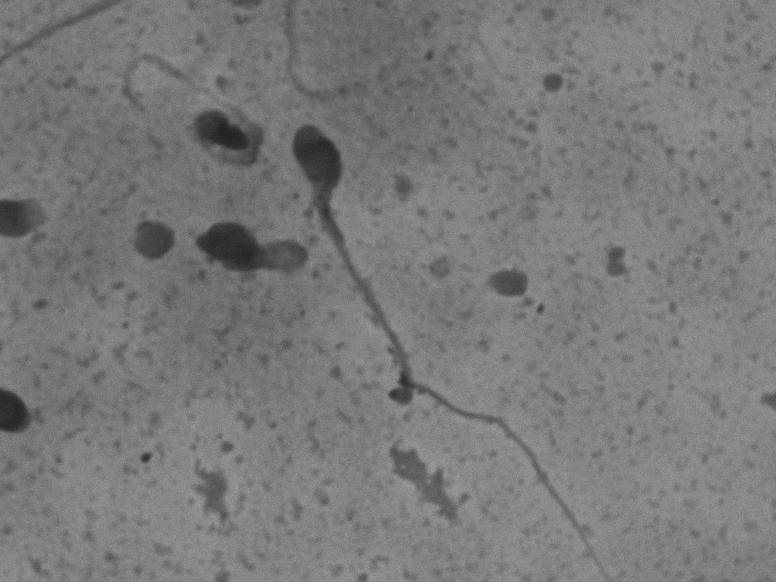Abnormal: (281, 110, 618, 569), (175, 214, 310, 327)
